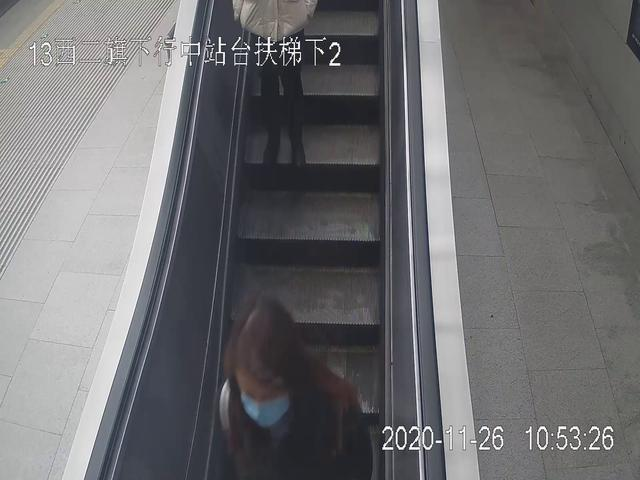person: (219, 299, 373, 480), (230, 1, 316, 168)
